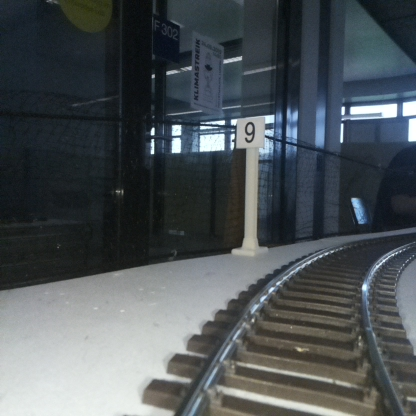white-info-9: (236, 116, 264, 254)
